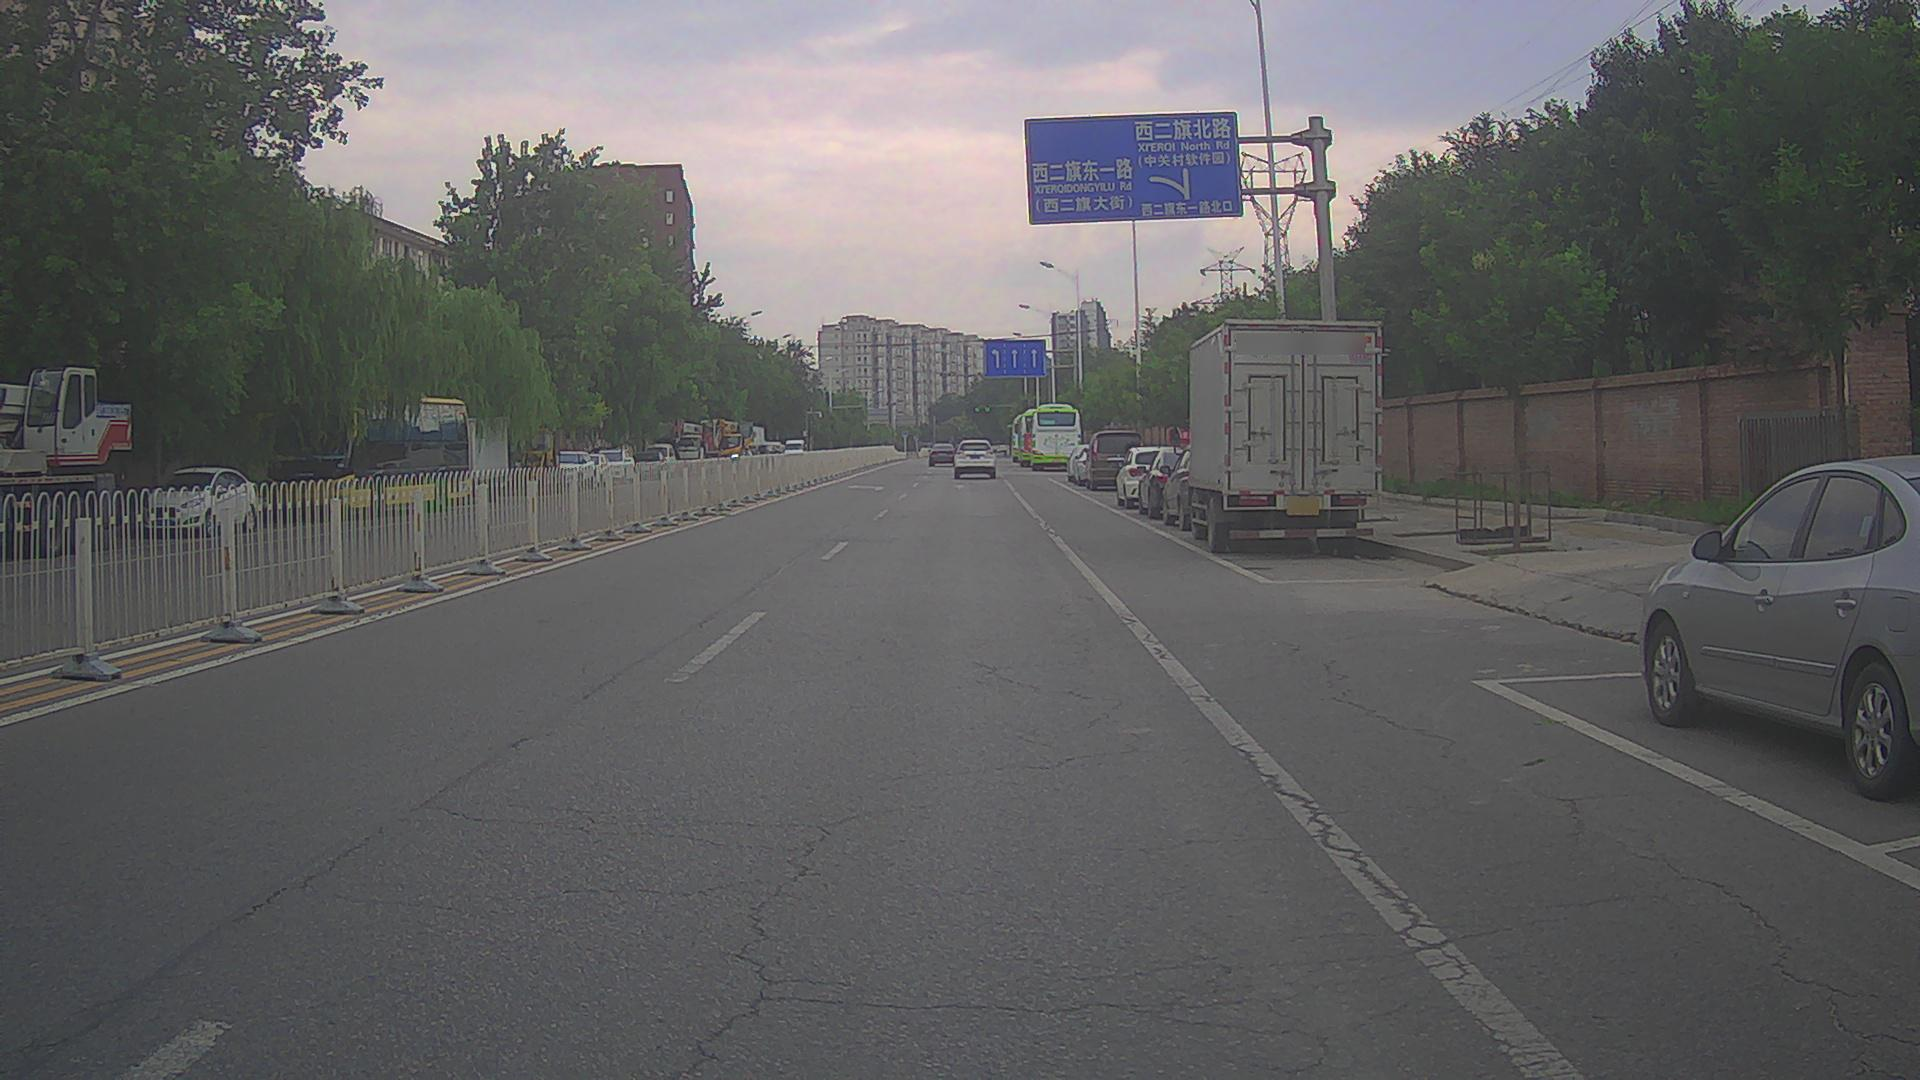bus: (252, 395, 468, 513), (1026, 404, 1081, 471), (1014, 409, 1066, 467), (1006, 414, 1048, 462)
car: (1644, 451, 1918, 804), (1159, 442, 1265, 531), (138, 466, 259, 536), (1134, 449, 1219, 521), (1115, 446, 1189, 509), (549, 450, 597, 491), (1074, 448, 1122, 485), (953, 439, 998, 479), (571, 454, 615, 489), (593, 448, 637, 483), (624, 451, 670, 480), (642, 444, 676, 480), (927, 443, 956, 466)
ignore: (752, 426, 782, 454), (1066, 444, 1086, 481), (749, 445, 767, 454)
pedestrian: (742, 447, 753, 474), (744, 447, 752, 470)
truck: (1168, 318, 1382, 557), (1, 365, 132, 557), (400, 413, 510, 501), (488, 426, 561, 496), (673, 420, 752, 464), (701, 419, 754, 470)
van: (1085, 430, 1146, 491), (784, 440, 807, 467)
